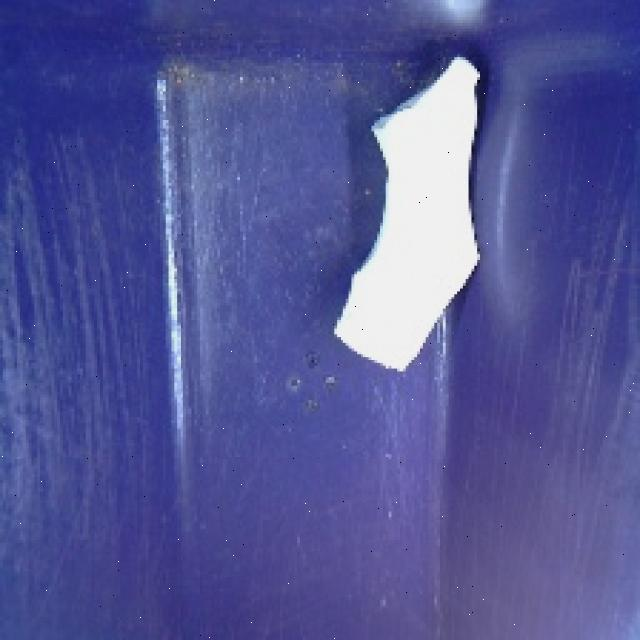china: (316, 31, 498, 386)
